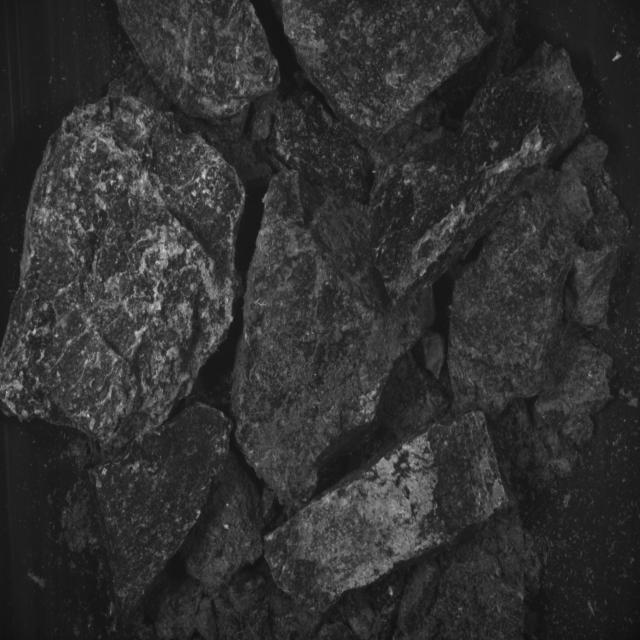Stones: (1, 91, 245, 449), (232, 170, 406, 509), (370, 45, 585, 300), (266, 412, 507, 613), (450, 137, 612, 414), (92, 404, 231, 613), (282, 1, 491, 140), (119, 1, 281, 120), (184, 453, 265, 591)
